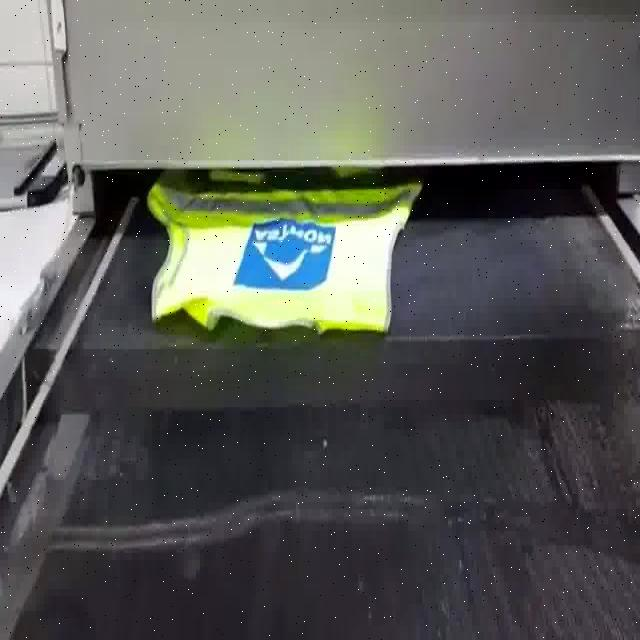Vest: (133, 169, 427, 334)
